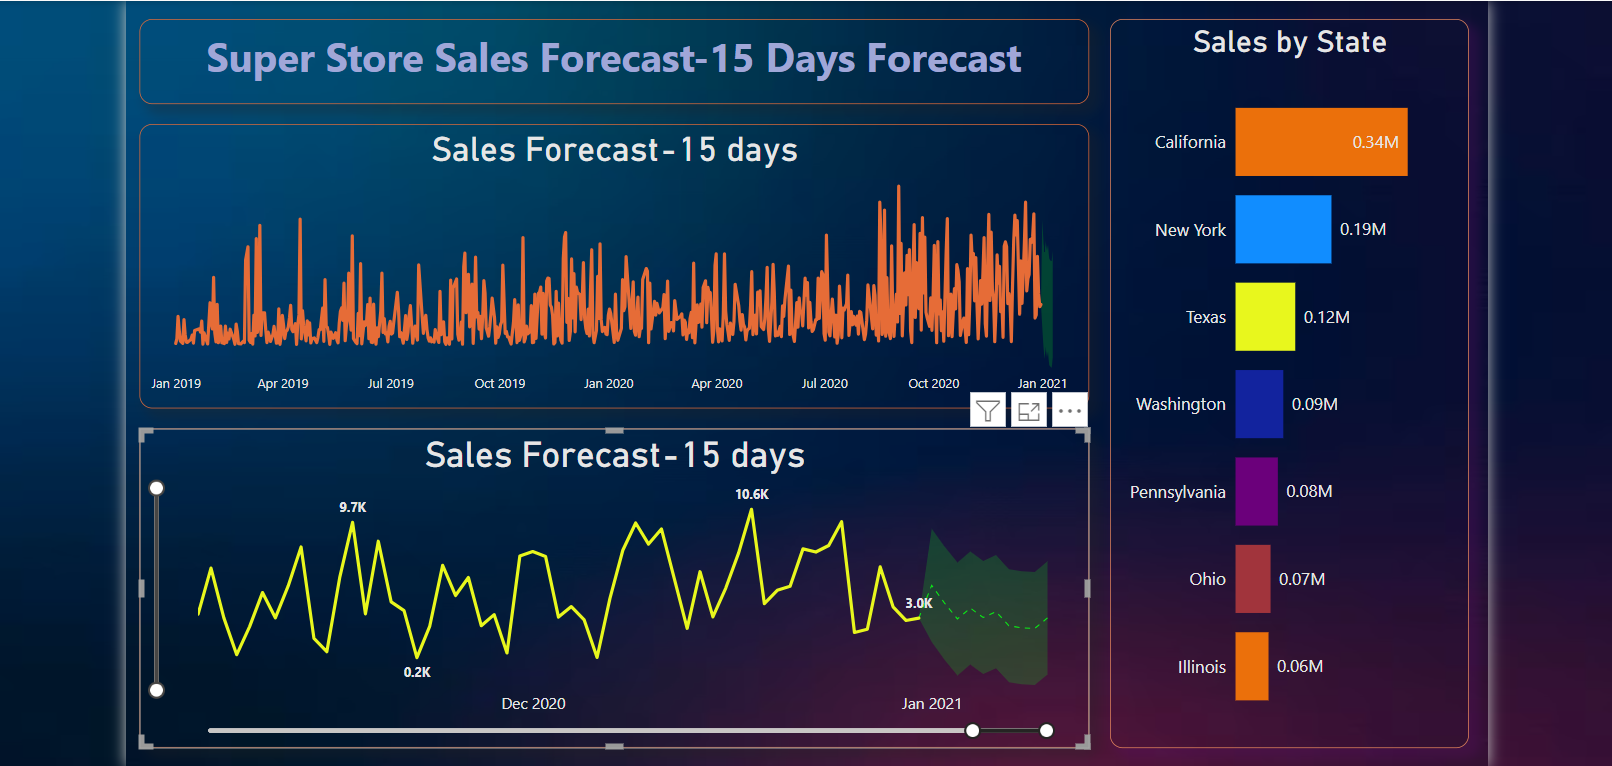

The page's visual inventory and layout, read from the dashboard file:
{"tool":"powerbi","page":{"name":"Page 2","canvas":[1280,720],"ordinal":1},"visuals":[{"type":"lineChart","title":"Sales Forecast-15 days","fields":{"Y":["Sum(SuperStore_Sales_Dataset.Sales)"],"Category":["SuperStore_Sales_Dataset.Order Date.Variation.Date Hierarchy.Year","SuperStore_Sales_Dataset.Order Date.Variation.Date Hierarchy.Quarter","SuperStore_Sales_Dataset.Order Date.Variation.Date Hierarchy.Month","SuperStore_Sales_Dataset.Order Date.Variation.Date Hierarchy.Day"]},"box":[12.5,115,892.5,267.5],"z":0},{"type":"lineChart","title":"Sales Forecast-15 days","fields":{"Y":["Sum(SuperStore_Sales_Dataset.Sales)"],"Category":["SuperStore_Sales_Dataset.Order Date"]},"box":[12.5,402.5,892.5,300],"z":1000},{"type":"clusteredBarChart","title":"Sales by  State","fields":{"Y":["Sum(SuperStore_Sales_Dataset.Sales)"],"Category":["SuperStore_Sales_Dataset.State"]},"box":[925,17.5,337.5,685],"z":1001},{"type":"textbox","box":[12.5,17.5,892.5,80],"z":1002}]}

Visuals, with their boxes on the page's 1280x720 design canvas (x1, y1, x2, y2). These are canvas units, not pixel positions in the 1612x766 screenshot, which may show the page scaled, cropped or inside an application window:
"Sales Forecast-15 days" lineChart: detection(12, 115, 905, 382)
"Sales Forecast-15 days" lineChart: detection(12, 402, 905, 702)
"Sales by  State" clusteredBarChart: detection(925, 18, 1262, 702)
textbox: detection(12, 18, 905, 98)
